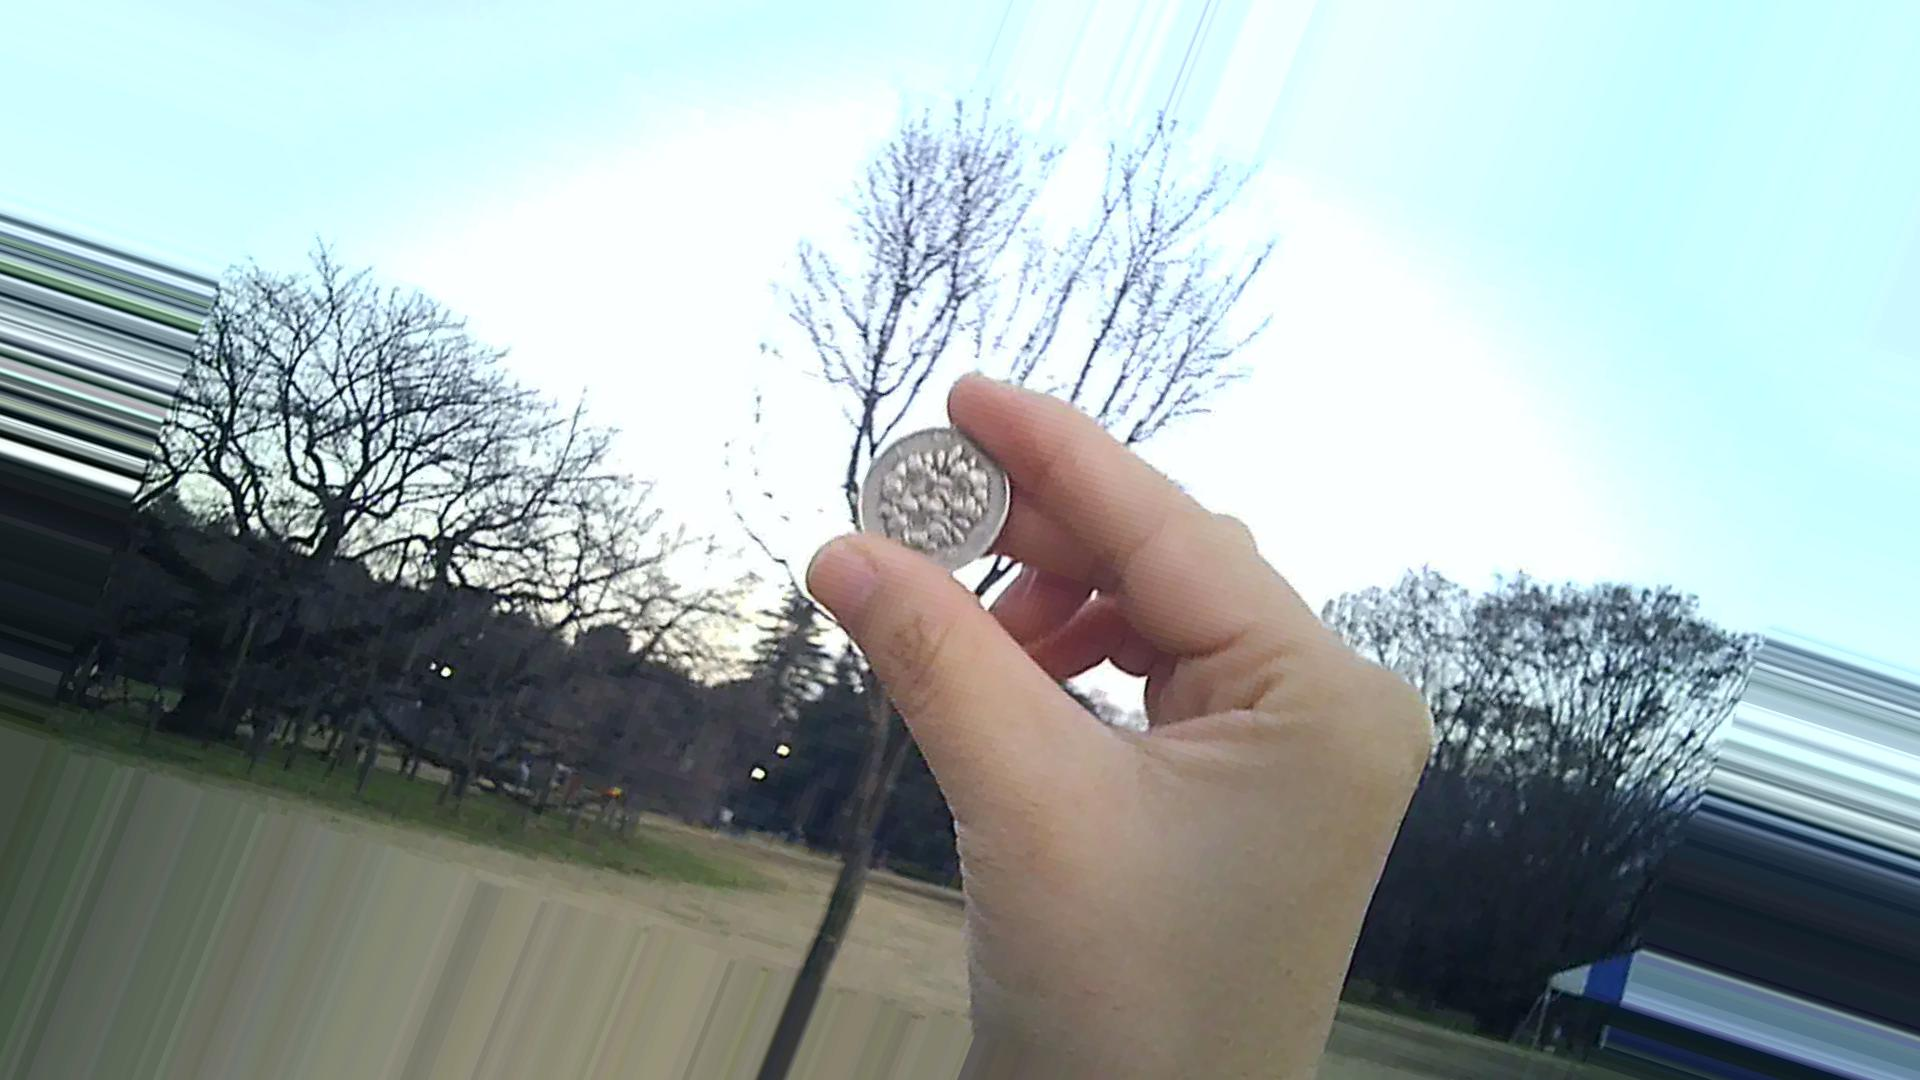100 Yen: (862, 422, 1014, 584)
